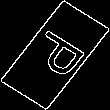P_SE: (20, 25, 90, 85)
